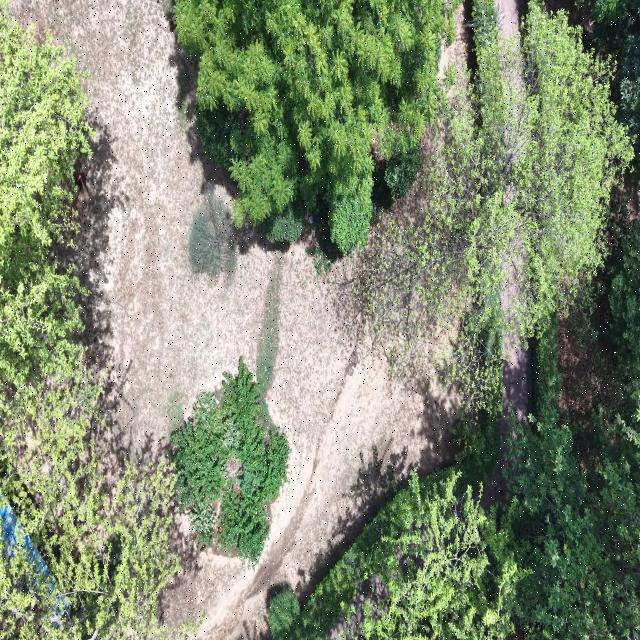DRY_AREA: (11, 0, 457, 639), (12, 1, 456, 636), (166, 248, 456, 637), (481, 332, 532, 511), (482, 332, 532, 510), (481, 336, 532, 510), (482, 333, 532, 509), (483, 333, 532, 505), (482, 338, 532, 506), (328, 575, 389, 639), (438, 0, 474, 98), (502, 338, 532, 436), (496, 0, 523, 101), (496, 0, 521, 57), (613, 174, 639, 220), (496, 0, 520, 38)
PATHWAYS: (482, 334, 532, 506)
VEGETATION_TREE: (176, 0, 639, 639), (288, 7, 639, 639), (291, 5, 639, 637), (283, 222, 639, 639), (0, 5, 194, 639), (353, 2, 631, 404), (289, 414, 639, 639), (175, 0, 457, 262), (499, 221, 639, 639), (278, 413, 517, 639), (289, 392, 501, 639), (479, 2, 631, 333), (0, 391, 193, 639), (501, 322, 639, 639), (275, 468, 520, 639), (0, 4, 92, 419), (505, 414, 639, 639), (358, 470, 521, 639), (172, 357, 289, 565), (0, 6, 92, 256), (278, 495, 398, 639), (559, 211, 639, 420), (316, 146, 422, 268), (172, 394, 228, 544), (594, 0, 639, 178), (608, 223, 639, 401), (189, 185, 237, 282), (452, 392, 502, 485), (256, 260, 281, 392), (532, 314, 562, 420), (197, 104, 240, 167), (385, 146, 422, 198), (263, 198, 304, 241), (269, 586, 299, 636), (593, 0, 634, 21)
